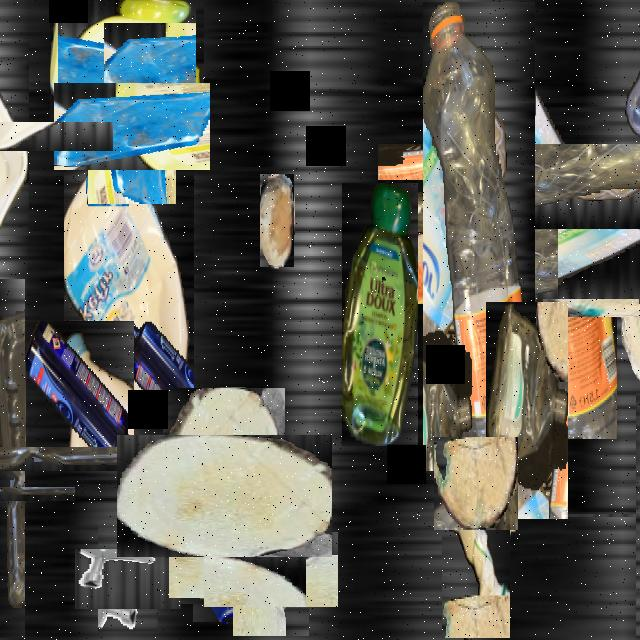glass: (71, 65, 193, 187), (218, 516, 324, 622), (181, 524, 267, 610), (0, 456, 45, 531)
metal: (86, 538, 170, 621)
plastic: (413, 107, 640, 340), (423, 2, 535, 471), (429, 197, 617, 439), (64, 153, 194, 462), (54, 0, 200, 144), (0, 362, 108, 554), (342, 183, 418, 446), (486, 302, 568, 519), (24, 322, 134, 468), (442, 489, 510, 638), (575, 453, 640, 577), (0, 80, 71, 193), (625, 52, 640, 204)
wood: (140, 411, 308, 581), (434, 437, 518, 530), (582, 259, 640, 355), (260, 174, 294, 267)
